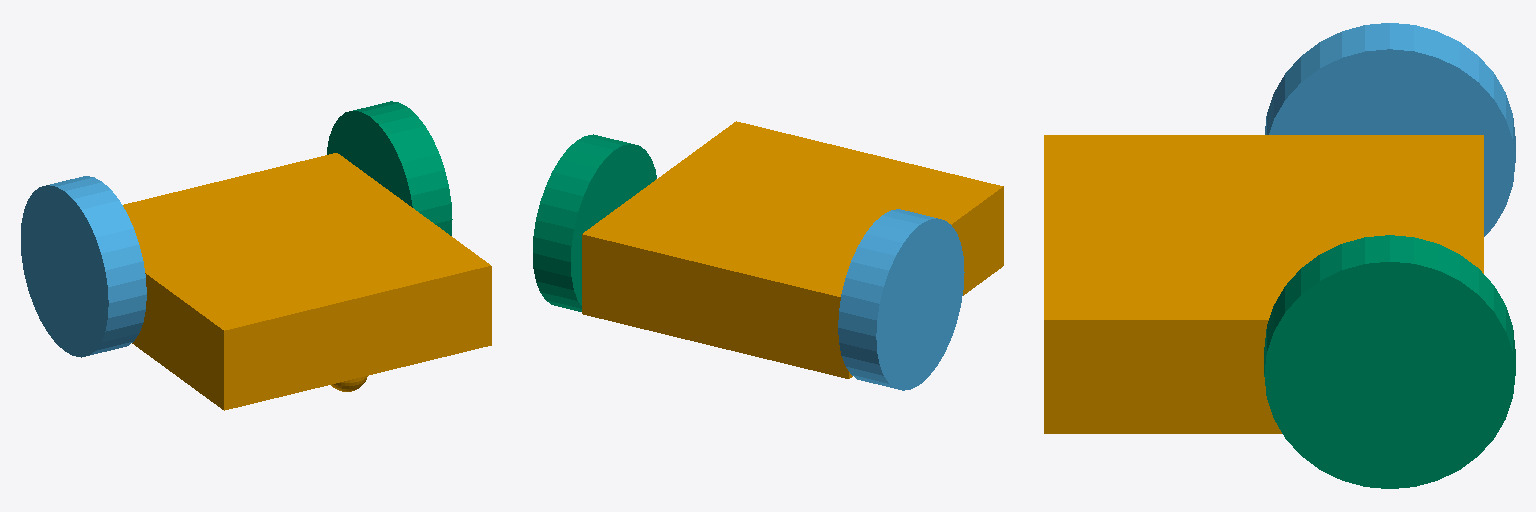
URDF robot description (my_mm_robot):
<?xml version="1.0" ?>

<robot name="my_mm_robot" xmlns:xacro="https://www.ros.org/wiki/xacro" >
    
  <material name="black">
    <color rgba="0.0 0.0 0.0 1.0"/>
  </material>
  <material name="blue">
    <color rgba="0.203125 0.23828125 0.28515625 1.0"/>
  </material>
  <material name="green">
    <color rgba="0.0 0.8 0.0 1.0"/>
  </material>
  <material name="grey">
    <color rgba="0.2 0.2 0.2 1.0"/>
  </material>
  <material name="orange">
    <color rgba="1.0 0.423529411765 0.0392156862745 1.0"/>
  </material>
  <material name="brown">
    <color rgba="0.870588235294 0.811764705882 0.764705882353 1.0"/>
  </material>
  <material name="red">
    <color rgba="0.80078125 0.12890625 0.1328125 1.0"/>
  </material>
  <material name="white">
    <color rgba="1.0 1.0 1.0 1.0"/>
  </material>  
  
  <gazebo reference="link_chassis">
    <material>Gazebo/Orange</material>
  </gazebo>
  <gazebo reference="link_left_wheel">
    <material>Gazebo/Black</material>
  </gazebo>
  <gazebo reference="link_right_wheel">
    <material>Gazebo/Black</material>
  </gazebo>
    
  <link name="link_chassis">
    <!-- pose and inertial -->
    <pose>0 0 0.1 0 0 0</pose>
    
    <inertial>
      <mass value="0.5"/>
      <origin rpy="0  0  0" xyz="0 0.01 0"/>
      <inertia ixx="0.00022083" ixy="0" ixz="0" iyy="0.00022083" iyz="0" izz="0.00040833"/>
    </inertial>
    
    <collision name="link_chassis_collision">
      <origin rpy="0  0  0" xyz="0     0    -0.005"/>
      <geometry>
        <box size="0.07 0.07 0.02"/>
      </geometry>
    </collision>
    
    <visual name="link_chassis_visual">
      <origin rpy="0  0  0" xyz="0     0    -0.005"/>
      <geometry>
        <box size="0.07 0.07 0.02"/>
      </geometry>
    </visual>
    
    <!-- caster front -->
    <collision name="caster_front_collision">
      <origin rpy="0  0  0" xyz="0     -0.03  -0.015"/>
      <geometry>
        <sphere radius="0.005"/>
      </geometry>
      <surface>
        <friction>
          <ode>
            <mu>100</mu>
            <mu2>100</mu2>
            <slip1>1000.0</slip1>
            <slip2>1000.0</slip2>
          </ode>
        </friction>
      </surface>
    </collision>
    
    <visual name="castor_front_visual">
      <origin rpy="0  0  0" xyz="0   -0.03  -0.015"/>
      <geometry>
        <sphere radius="0.005"/>
      </geometry>
    </visual>
</link>
  
  <!-- Create wheel right -->  
    
  <link name="link_right_wheel">    
    <inertial>
      <mass value="0.2"/>
      <origin rpy="0 1.5707 0" xyz="0 0 0"/>
      <inertia ixx="2.3e-06" ixy="0" ixz="0" iyy="2.3e-06" iyz="0" izz="4.5e-06"/>
    </inertial>
    
    <collision name="link_right_wheel_collision">
      <origin rpy="0 1.5707 0" xyz="0 0 0"/>
      <geometry>
        <cylinder length="0.01" radius="0.02"/>
      </geometry>
    </collision>
    
    <visual name="link_right_wheel_visual">
      <origin rpy="0 1.5707 0" xyz="0 0 0"/>
      <geometry>
        <cylinder length="0.01" radius="0.02"/>
      </geometry>      
    </visual>
    
  </link>
    
  <!--   Joint for right wheel  -->
  <joint name="joint_right_wheel" type="continuous">
    <origin rpy="0 0 0" xyz="-0.04  0.02    0"/>
    <child link="link_right_wheel" />
    <parent link="link_chassis"/>
    <axis rpy="0 0 0" xyz="1 0 0"/>
    <limit effort="5" velocity="6"/>
    <joint_properties damping="10000.0" friction="10000.0" />
  </joint>  
  <transmission name="right_wheel_trans">
     <type>transmission_interface/SimpleTransmission</type>
     <actuator name="right_wheel_motor">
       <hardwareInterface>VelocityJointInterface</hardwareInterface>
       <mechanicalReduction>7</mechanicalReduction>
     </actuator>
     <joint name="joint_right_wheel">
       <hardwareInterface>VelocityJointInterface</hardwareInterface>
     </joint>
  </transmission>
    
  <!-- Left Wheel link -->
    
  <link name="link_left_wheel">    
    <inertial>
      <mass value="0.2"/>
      <origin rpy="0 1.5707 0" xyz="0 0 0"/>
      <inertia ixx="2.3e-06" ixy="0" ixz="0" iyy="2.3e-06" iyz="0" izz="4.5e-06"/>
    </inertial>
    
    <collision name="link_left_wheel_collision">
      <origin rpy="0 1.5707 0" xyz="0 0 0"/>
      <geometry>
        <cylinder length="0.01" radius="0.02"/>
      </geometry>
    </collision>
    
    <visual name="link_left_wheel_visual">
      <origin rpy="0 1.5707 0" xyz="0 0 0"/>
      <geometry>
        <cylinder length="0.01" radius="0.02"/>
      </geometry>      
    </visual>
    
  </link>
    
  <!--   Joint for right wheel  -->
  <joint name="joint_left_wheel" type="continuous">
    <origin rpy="0 0 0" xyz="0.04 0.02 0"/>
    <child link="link_left_wheel" />
    <parent link="link_chassis"/>
    <axis rpy="0 0 0" xyz="1 0 0"/>
    <limit effort="5" velocity="6"/>
    <joint_properties damping="10000.0" friction="10000.0" />
  </joint> 
  <transmission name="left_wheel_trans">
     <type>transmission_interface/SimpleTransmission</type>
     <actuator name="left_wheel_motor">
       <hardwareInterface>VelocityJointInterface</hardwareInterface>
       <mechanicalReduction>7</mechanicalReduction>
     </actuator>
     <joint name="joint_left_wheel">
       <hardwareInterface>VelocityJointInterface</hardwareInterface>
     </joint>
  </transmission>


  <gazebo>
    <plugin filename="libgazebo_ros_diff_drive.so" name="differential_drive_controller">
      <alwaysOn>true</alwaysOn>
      <updateRate>20</updateRate>
      <leftJoint>joint_left_wheel</leftJoint>
      <rightJoint>joint_right_wheel</rightJoint>
      <wheelSeparation>0.4</wheelSeparation>
      <wheelDiameter>0.2</wheelDiameter>
      <torque>0.1</torque>
      <commandTopic>cmd_vel</commandTopic>
      <odometryTopic>odom</odometryTopic>
      <odometryFrame>odom</odometryFrame>
      <robotBaseFrame>link_chassis</robotBaseFrame>
    </plugin>
  </gazebo>


  <!-- <gazebo> 
    <plugin name="gazebo_ros_control" filename="libgazebo_ros_control.so">
      <robotNamespace>/simple_model</robotNamespace>
      <legacyModeNS>true</legacyModeNS>
      <robotSimType>gazebo_ros_control/DefaultRobotHWSim</robotSimType>
    </plugin>
  </gazebo>-->
  
</robot>

--- Facts derived from the render (not from the file) ---
3 views of the same robot in one strip: view 1: azimuth 30°, elevation 25°; view 2: azimuth 150°, elevation 25°; view 3: azimuth 270°, elevation 25° (orthographic).
Model my_mm_robot with 3 links and 2 joints (2 continuous), rooted at link_chassis, posed all joints at 0.
Visible links, largest first — view 1: link_chassis, link_right_wheel, link_left_wheel; view 2: link_chassis, link_right_wheel, link_left_wheel; view 3: link_chassis, link_left_wheel, link_right_wheel.
Link boxes in pixels (box(x1,y1,x2,y2)): link_chassis: box(123, 153, 491, 410); link_right_wheel: box(21, 176, 146, 357); link_left_wheel: box(327, 101, 452, 235); link_chassis: box(582, 121, 1003, 378); link_right_wheel: box(838, 209, 964, 390); link_left_wheel: box(533, 134, 656, 311); link_chassis: box(1044, 135, 1483, 433); link_left_wheel: box(1264, 235, 1515, 488); link_right_wheel: box(1265, 23, 1515, 236).
Size in the robot's own frame: 0.09 by 0.075 by 0.04 metres.
Geometry: primitives only (box / cylinder / sphere), no mesh files.